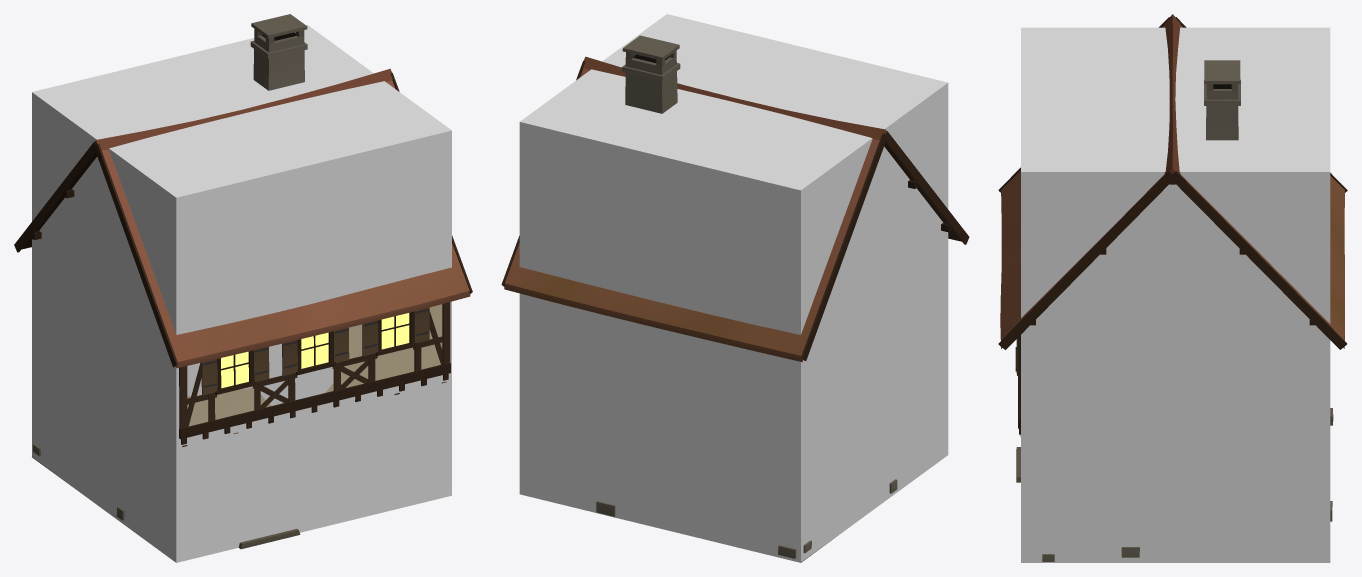
Rendered from house_b.glb.
The picture shows the model from 3 angles, left to right: view 1: azimuth 30°, elevation 25°; view 2: azimuth 150°, elevation 25°; view 3: azimuth 270°, elevation 25°; orthographic projection. The views are drawn at different scales.
Parts seen in each view (by area): view 1: COL_body, house_b; view 2: COL_body, house_b; view 3: COL_body, house_b.
Part boxes in pixels (x1,y1,x2,y2): COL_body: (32,25,451,562); house_b: (14,14,472,549); COL_body: (519,14,948,562); house_b: (501,35,969,562); COL_body: (1021,27,1330,562); house_b: (998,14,1347,561).
Bounding box in the file's own units: 7.79 × 10.58 × 7.41.
